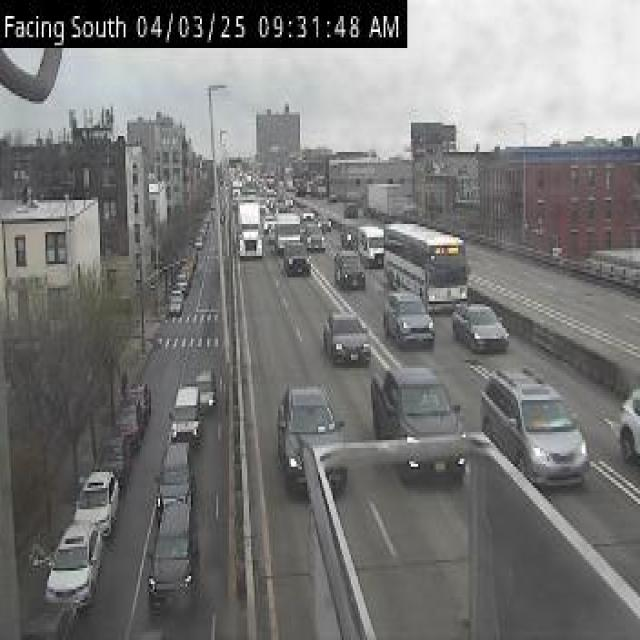parkedCars: (34, 319, 146, 594), (162, 238, 198, 316)
